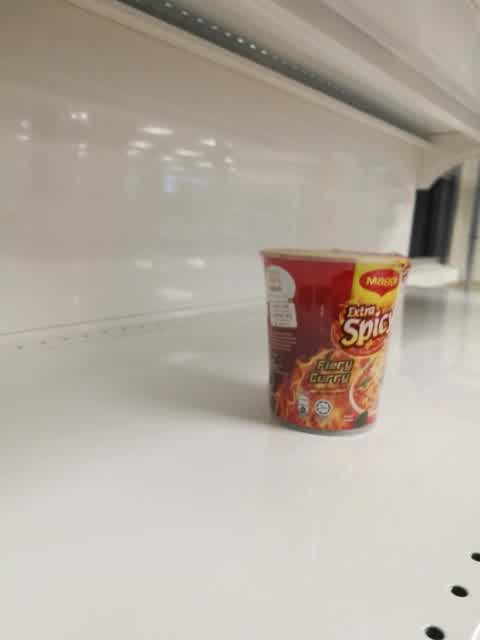maggi: (257, 247, 412, 440)
